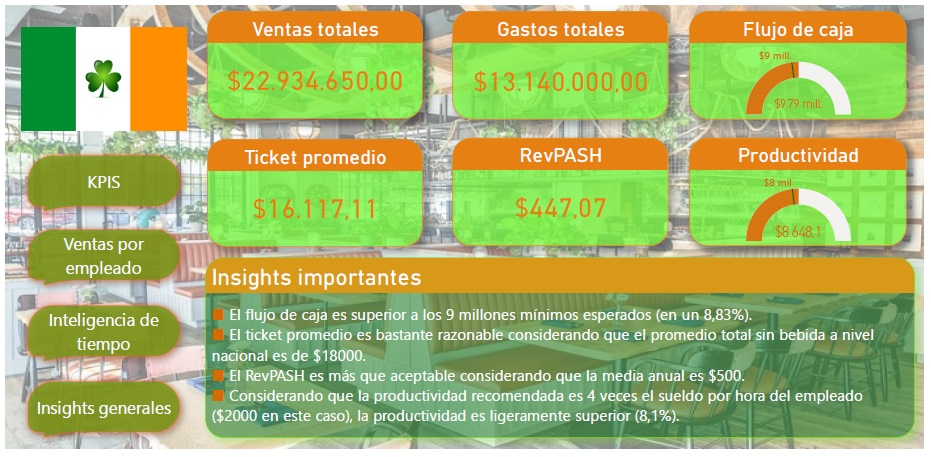

What the dashboard file says about the page in this screenshot:
{"tool":"powerbi","page":{"name":"KPIS","canvas":[1450,700],"ordinal":0},"visuals":[{"type":"gauge","title":"Flujo de caja","fields":{"Y":["ventas.Flujo de caja"],"TargetValue":["ventas.Valor MIN"]},"box":[1079.7,9.4,343.8,170.3],"z":0},{"type":"card","title":"Ticket promedio","fields":{"Values":["ventas.Ticket Promedio"]},"box":[318.9,210.9,340,170],"z":1000},{"type":"card","title":"RevPASH","fields":{"Values":["ventas.RevPASH"]},"box":[706.2,209.4,340.6,170.3],"z":2000},{"type":"image","box":[20.3,0,270.3,232.8],"z":3000},{"type":"textbox","title":"Insights importantes","box":[315.6,398.4,1120.3,284.4],"z":4000},{"type":"shape","box":[20.3,457.8,270.3,120.3],"z":5000},{"type":"shape","box":[20.3,337.5,270.3,120.3],"z":6000},{"type":"shape","box":[20.3,578.1,270.3,120.3],"z":7000},{"type":"card","title":"Ventas totales","fields":{"Values":["ventas.Total de Ventas"]},"box":[318.8,9.4,340.6,170],"z":8000},{"type":"card","title":"Gastos totales","fields":{"Values":["ventas.Gastos Totales"]},"box":[706.2,9.4,340.6,170.3],"z":9000},{"type":"shape","box":[20.3,221.9,270.3,120.3],"z":10000},{"type":"gauge","title":"Productividad","fields":{"TargetValue":["ventas.Productividad esperada"],"Y":["ventas.Productividad"]},"box":[1079.7,209.4,343.8,170.3],"z":11000}]}

Visuals, with their boxes in screenshot pixels (x1, y1, x2, y2), scaled from the page's 1450x700 canvas onto the 931x457 screenshot:
"Flujo de caja" gauge: {"x1": 693, "y1": 6, "x2": 914, "y2": 117}
"Ticket promedio" card: {"x1": 205, "y1": 138, "x2": 423, "y2": 249}
"RevPASH" card: {"x1": 453, "y1": 137, "x2": 672, "y2": 248}
image: {"x1": 13, "y1": 0, "x2": 187, "y2": 152}
"Insights importantes" textbox: {"x1": 203, "y1": 260, "x2": 922, "y2": 446}
shape: {"x1": 13, "y1": 299, "x2": 187, "y2": 377}
shape: {"x1": 13, "y1": 220, "x2": 187, "y2": 299}
shape: {"x1": 13, "y1": 377, "x2": 187, "y2": 456}
"Ventas totales" card: {"x1": 205, "y1": 6, "x2": 423, "y2": 117}
"Gastos totales" card: {"x1": 453, "y1": 6, "x2": 672, "y2": 117}
shape: {"x1": 13, "y1": 145, "x2": 187, "y2": 223}
"Productividad" gauge: {"x1": 693, "y1": 137, "x2": 914, "y2": 248}
